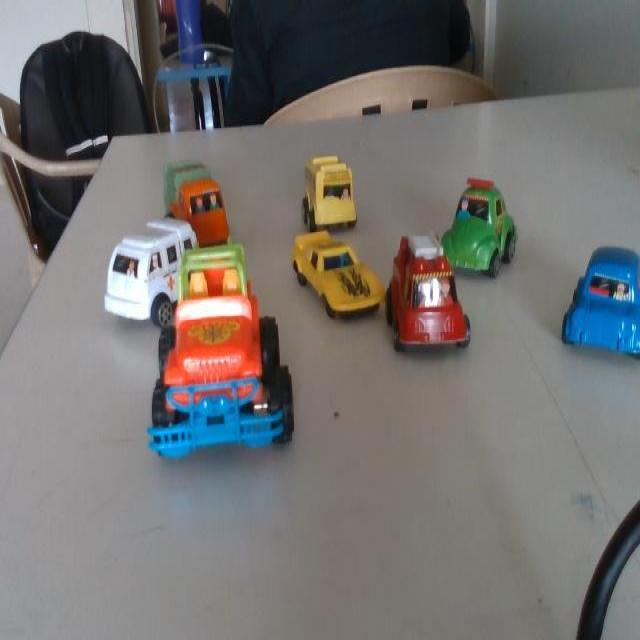car: (148, 292, 300, 480), (265, 213, 404, 347), (550, 230, 639, 394), (388, 232, 478, 368), (97, 224, 194, 328), (151, 148, 241, 256), (444, 180, 523, 286), (304, 146, 364, 232)
